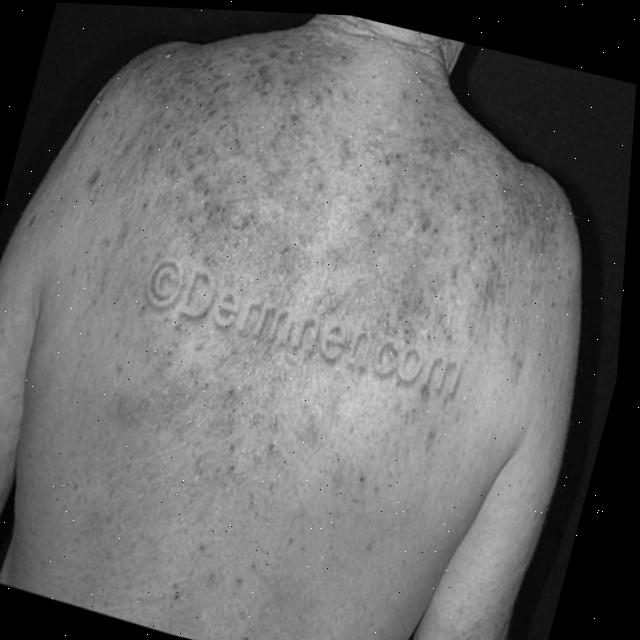Eczema: (27, 16, 606, 640)
